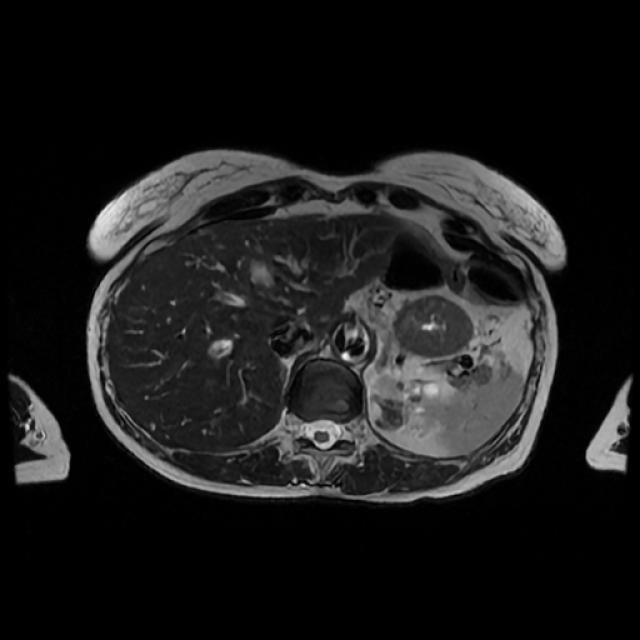sol: (368, 375, 444, 432)
